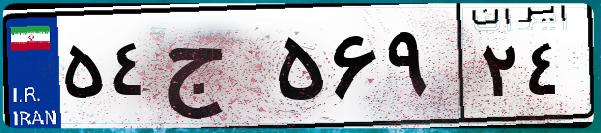2: (475, 38, 525, 113)
4: (525, 38, 570, 115), (110, 28, 158, 98)
5: (270, 28, 330, 110), (57, 26, 110, 100)
6: (330, 28, 385, 110)
9: (385, 28, 445, 110)
ج: (158, 20, 270, 120)
